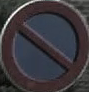No waiting: (3, 3, 83, 87)
